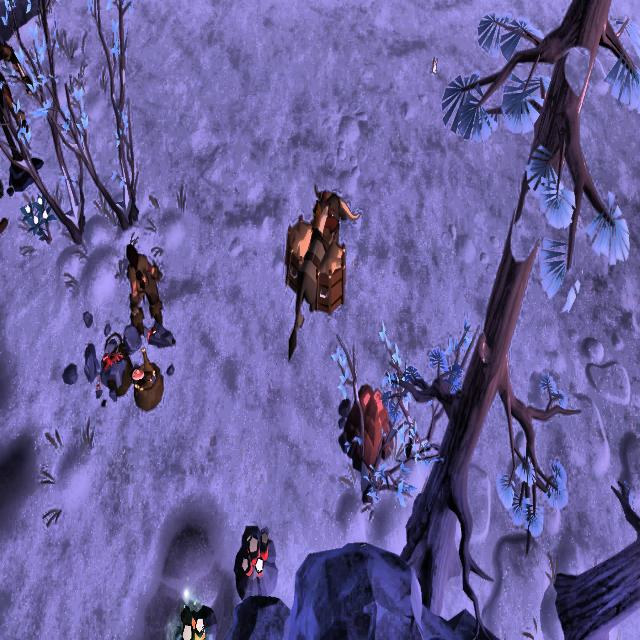enemy_factionKeeper: (124, 241, 166, 336), (0, 33, 31, 135)
ore_t5: (174, 597, 211, 640), (240, 530, 270, 581)
rock_t5: (339, 381, 394, 472)
